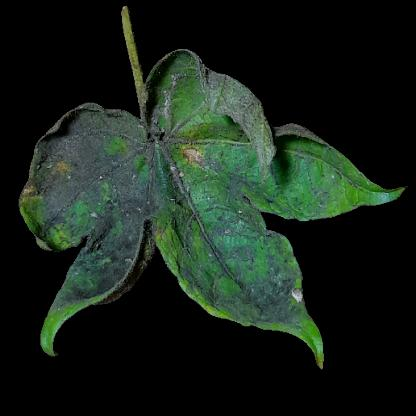sooty: (54, 118, 133, 290), (138, 109, 198, 219), (241, 252, 294, 330), (210, 176, 252, 246), (216, 85, 253, 147)
